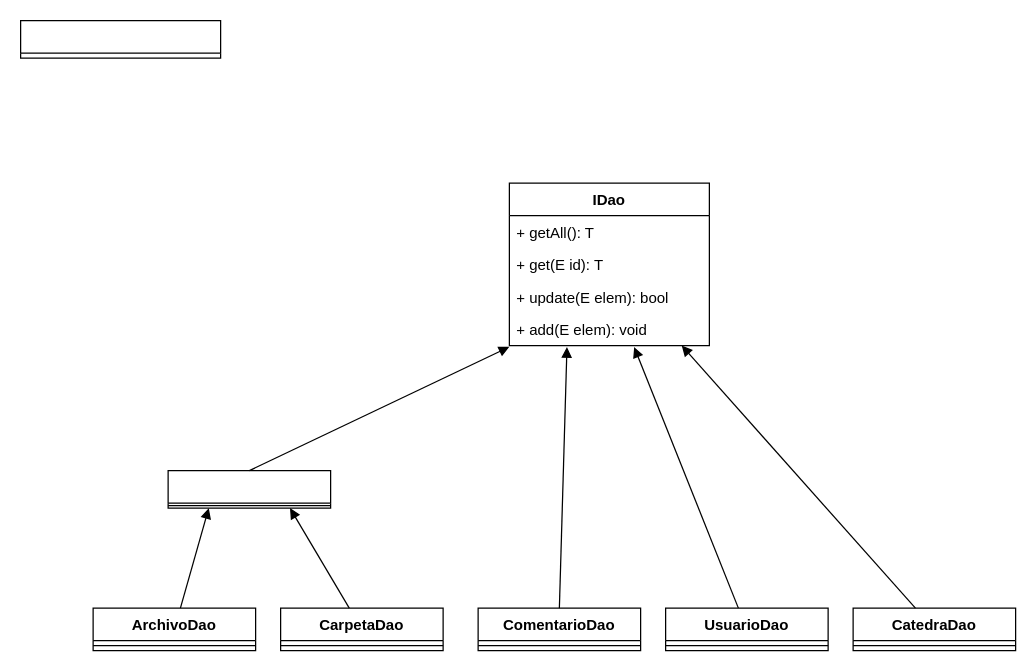
Image size: 1036x671. Some labels were removed from this diagram. The shapes that lost their labels are listed below. From the top down, each one's centre as x and y in pixels, then its label:
the point at 120,38: Conexion
the point at 249,488: ElementoDao
